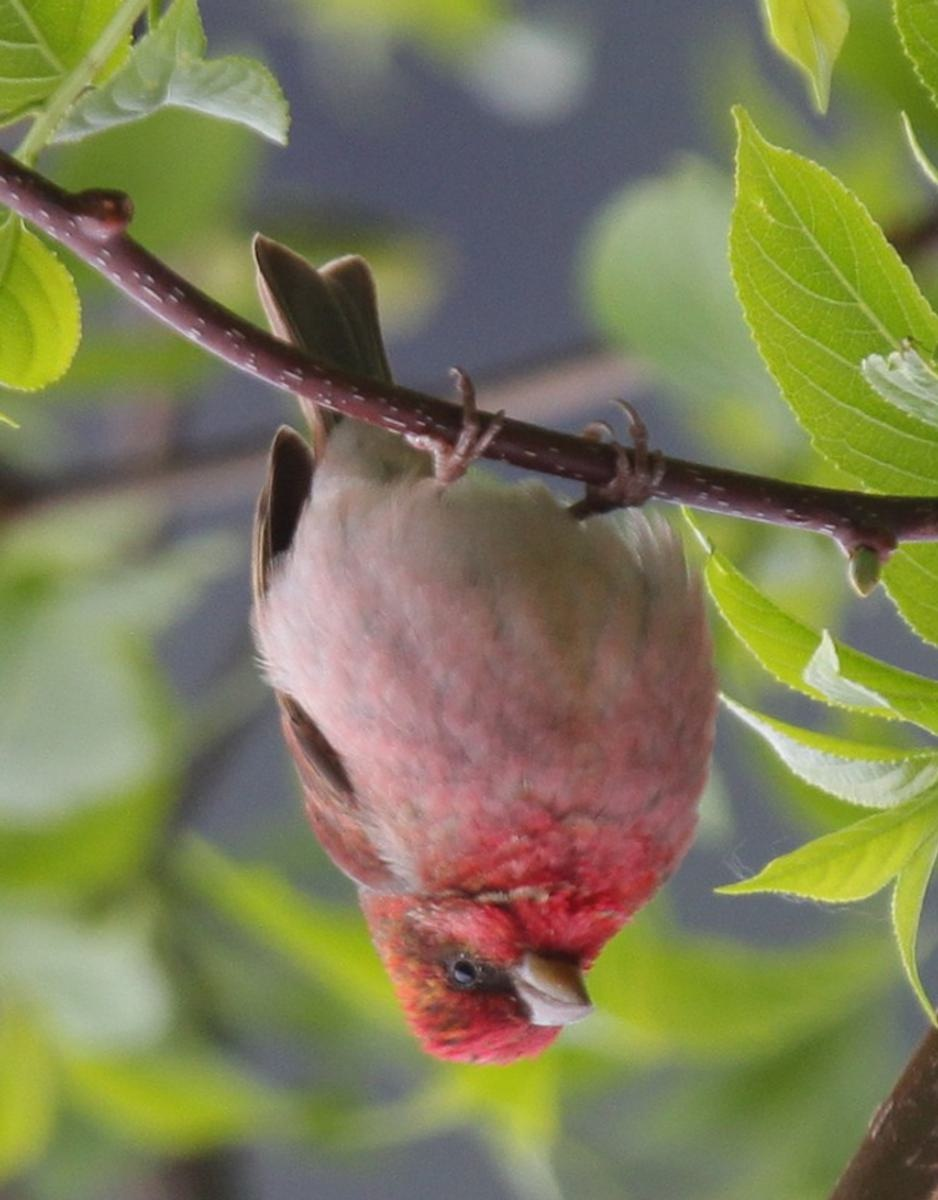rosefinch: (317, 431, 711, 1098)
